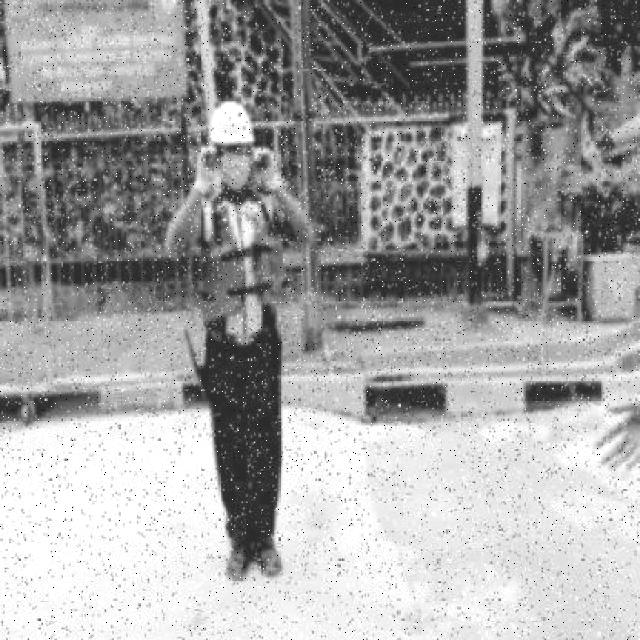Boots: (224, 532, 252, 583), (253, 538, 284, 576)
Gloves: (190, 141, 219, 197), (250, 145, 282, 193)
Helmet: (208, 98, 254, 146)
Mask: (199, 220, 293, 322), (218, 144, 250, 158)
